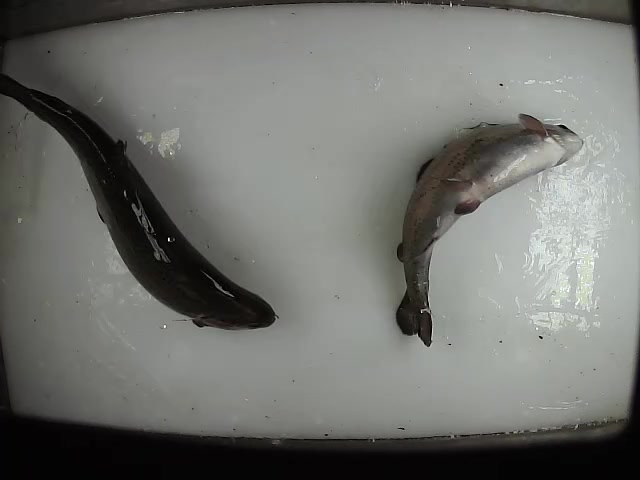fish: (1, 67, 282, 334), (391, 111, 587, 350)
